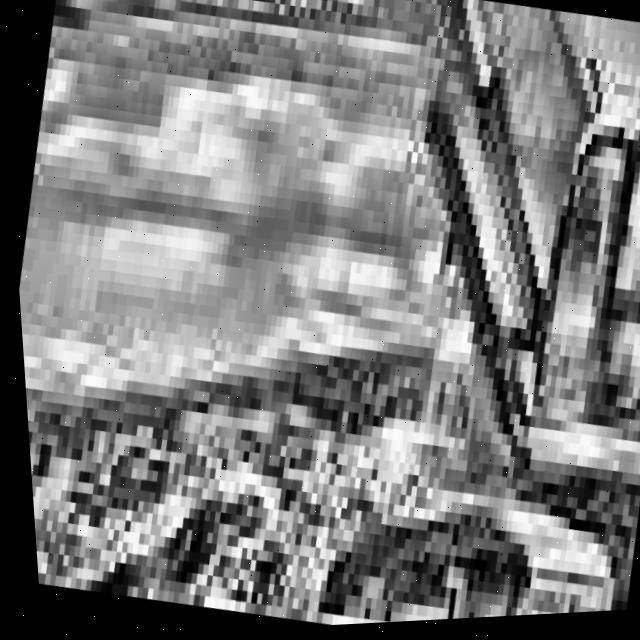excavator: (307, 30, 640, 628)
